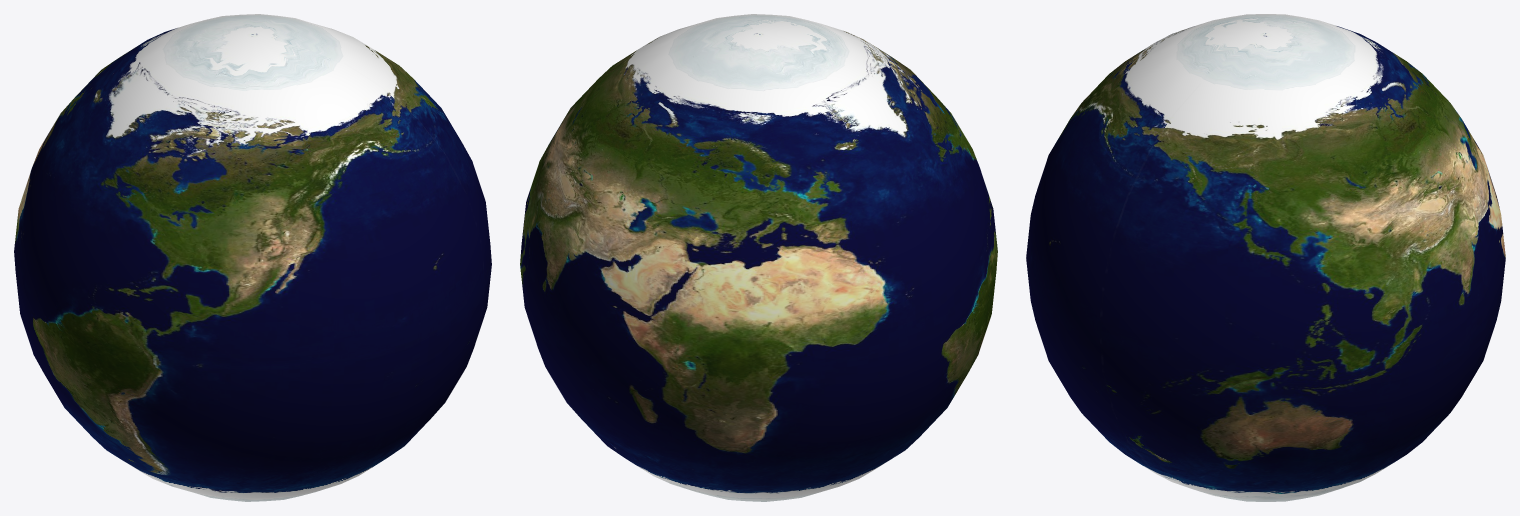
Rendered from earth.obj.
3 views of the same model, side by side, from view 1: azimuth 30°, elevation 25°; view 2: azimuth 150°, elevation 25°; view 3: azimuth 270°, elevation 25° (orthographic).
Parts seen in each view (by area): view 1: sphere1; view 2: sphere1; view 3: sphere1.
Boxes of the visible parts, bbox=[...] form: sphere1: bbox=[14, 14, 491, 501]; sphere1: bbox=[520, 14, 997, 501]; sphere1: bbox=[1026, 14, 1505, 501].
Size of the model in its own units: 1813 by 1869 by 1813.
1 material, 1 textured.
